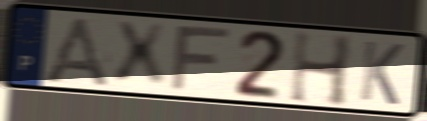2: (234, 28, 288, 102)
A: (39, 14, 114, 90)
F: (167, 25, 235, 94)
H: (287, 28, 356, 109)
K: (357, 38, 406, 108)
X: (111, 19, 169, 90)
